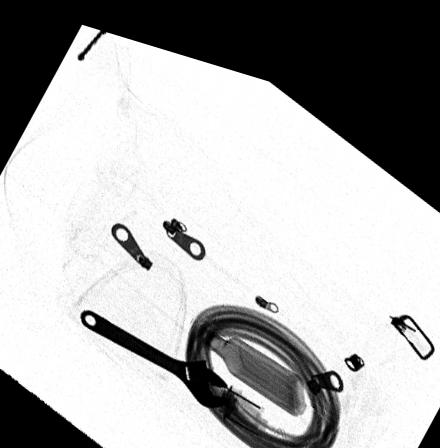Wrench: (81, 301, 233, 395)
